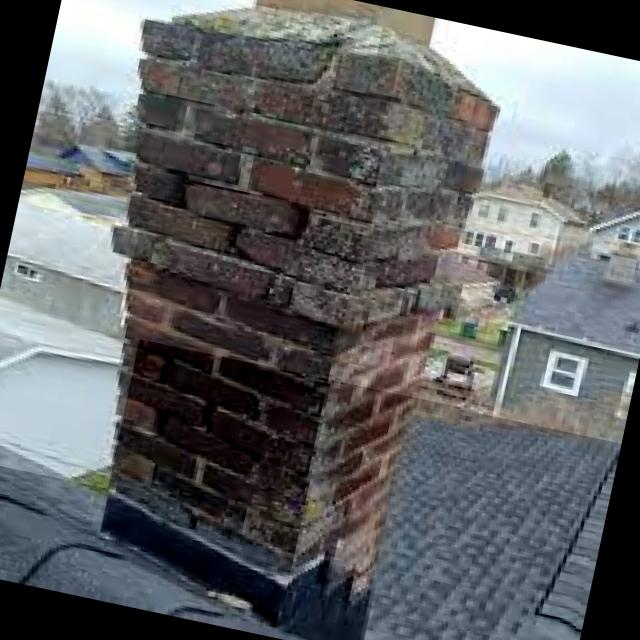House: (0, 308, 621, 640), (478, 221, 640, 443), (0, 302, 140, 488), (0, 202, 139, 334), (454, 174, 601, 294), (21, 134, 139, 211), (17, 174, 134, 231), (580, 190, 640, 272)
